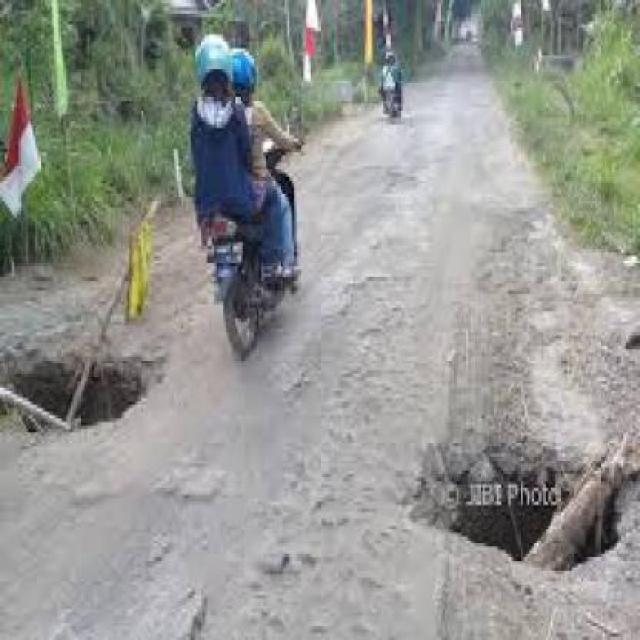pothole: (399, 426, 638, 574), (0, 335, 165, 443)
